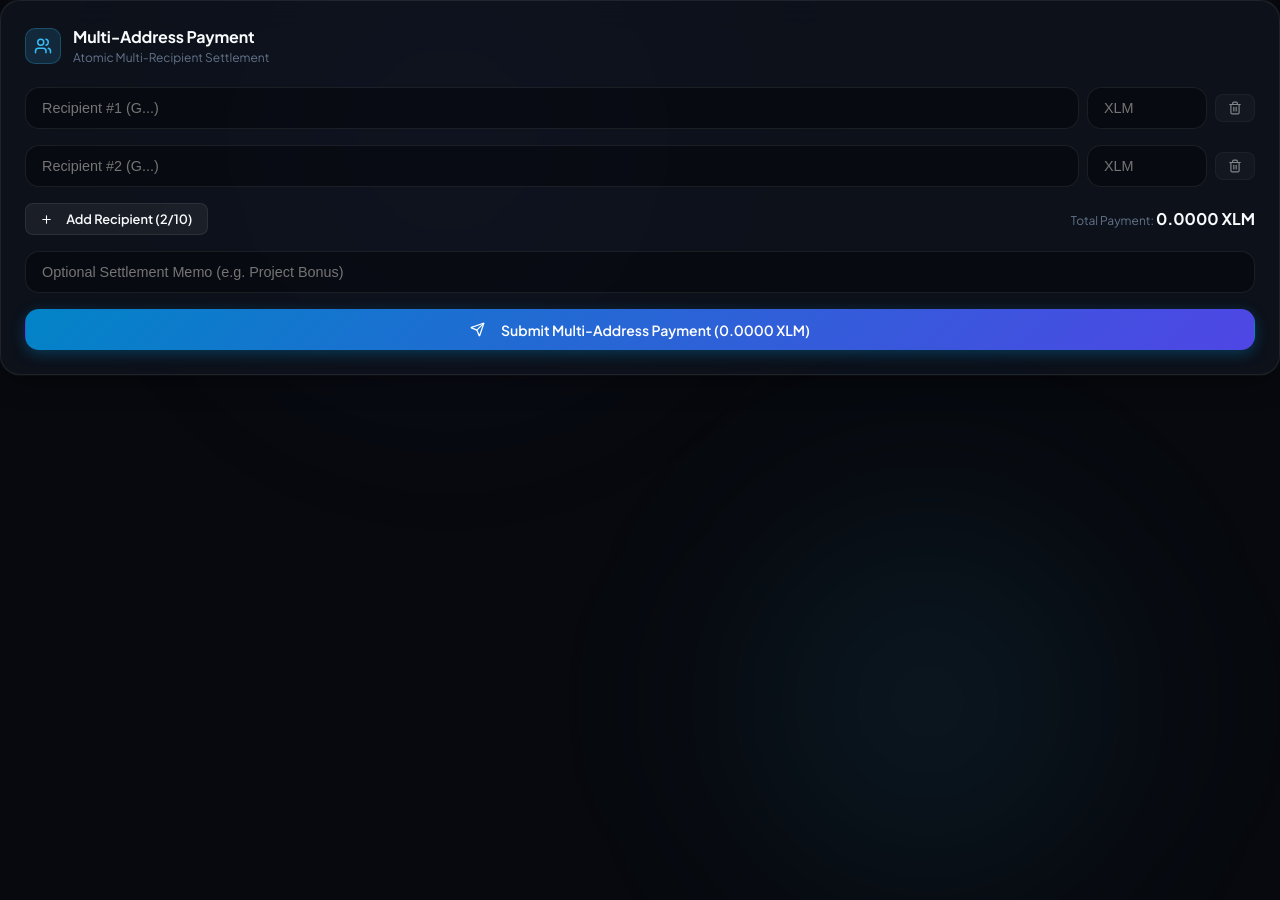
Test: Multi-Recipient & Split Payments › MultiPaymentForm Calculations and Validation › rejects duplicate recipients
Type "GBBD47IF6LWK7P7MDEVSCWR7DPUWV3NY3DTQEVFL4NAT4AQH3ZLLFLA5" into the field with test id "multi-recipient-0" at [552, 108], box top-left (25, 87), bottom-right (1079, 129)
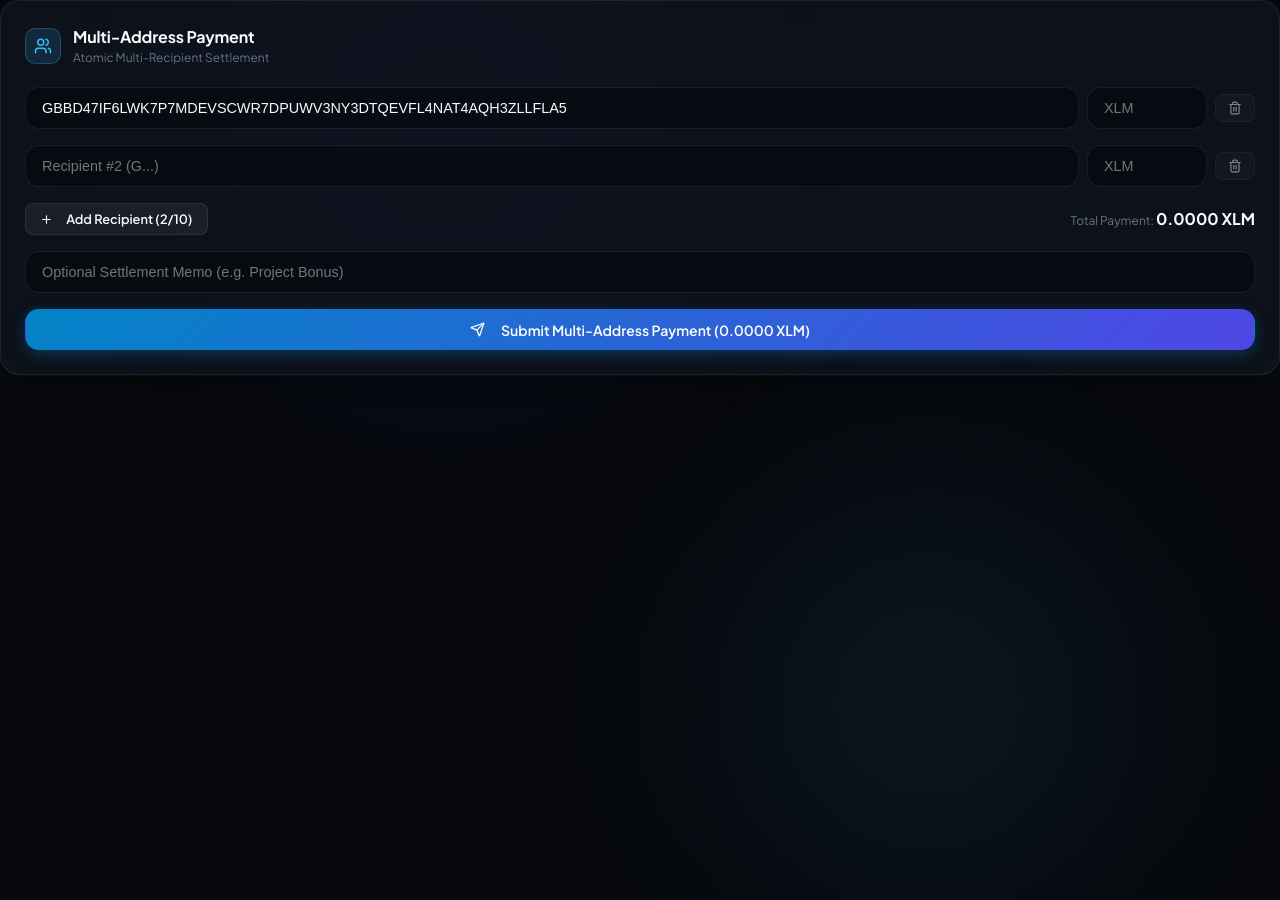
Type "10" into the number field with test id "multi-amount-0" at [1147, 108], box top-left (1087, 87), bottom-right (1207, 129)
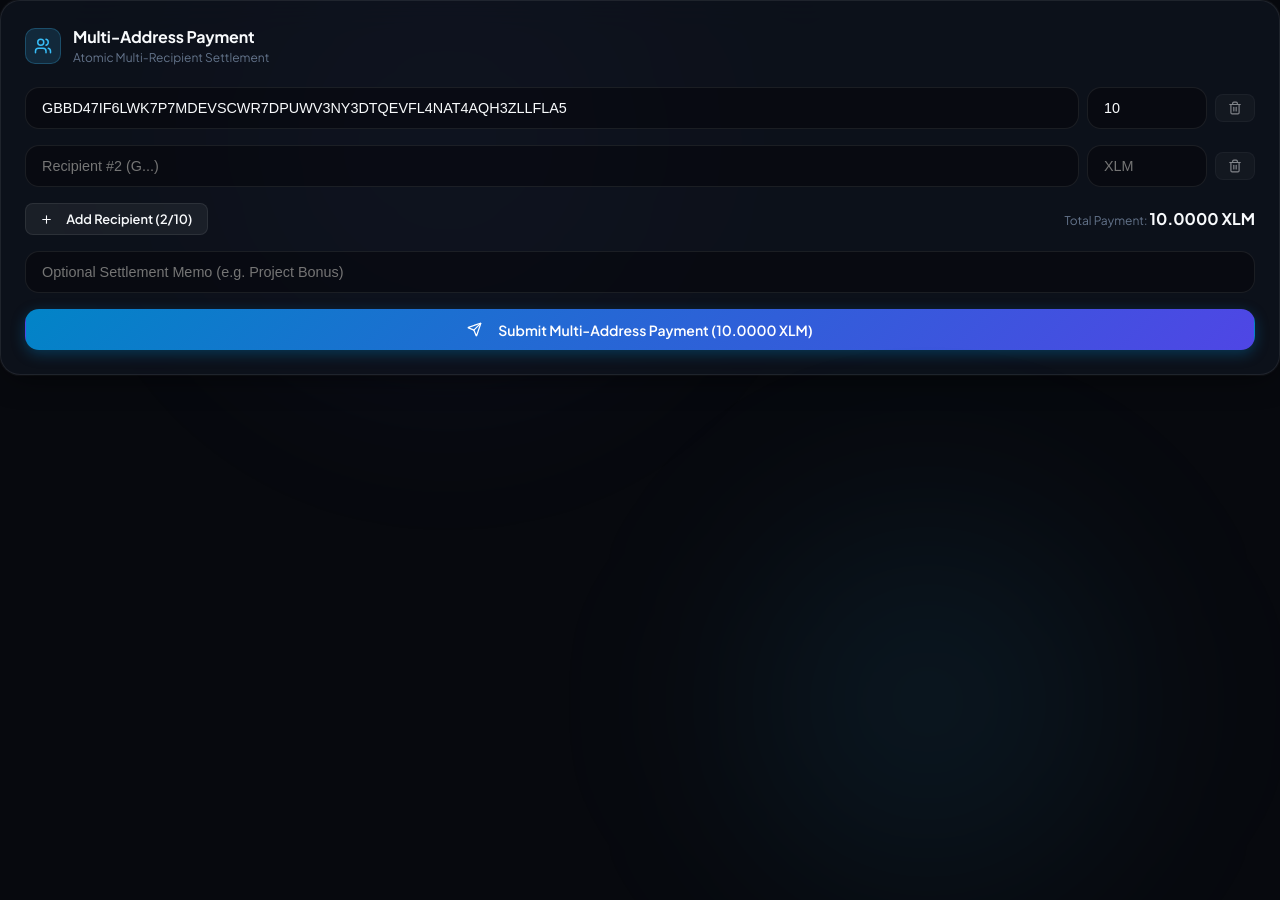
Type "GBBD47IF6LWK7P7MDEVSCWR7DPUWV3NY3DTQEVFL4NAT4AQH3ZLLFLA5" into the field with test id "multi-recipient-1" at [552, 166], box top-left (25, 145), bottom-right (1079, 187)
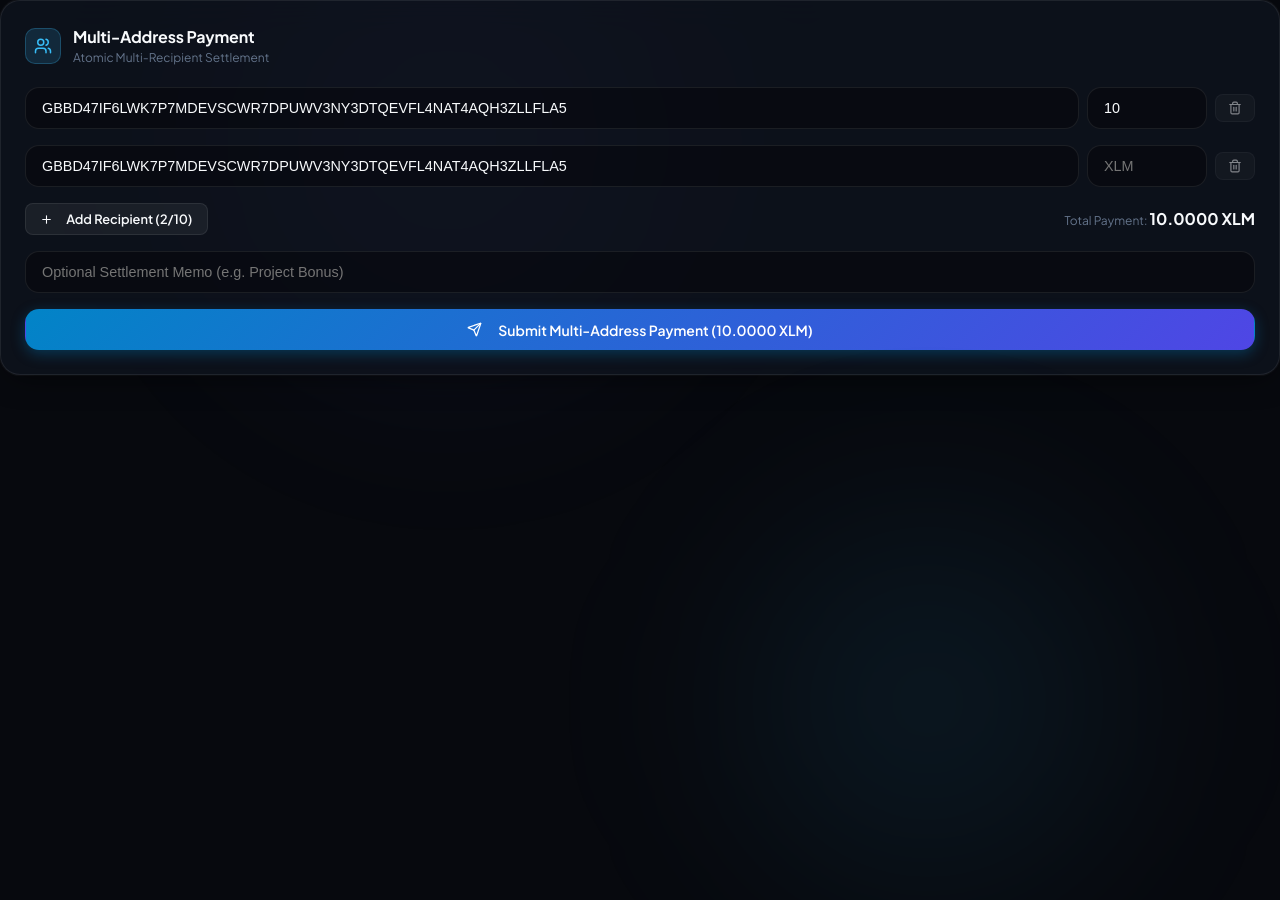
Type "20" into the number field with test id "multi-amount-1" at [1147, 166], box top-left (1087, 145), bottom-right (1207, 187)
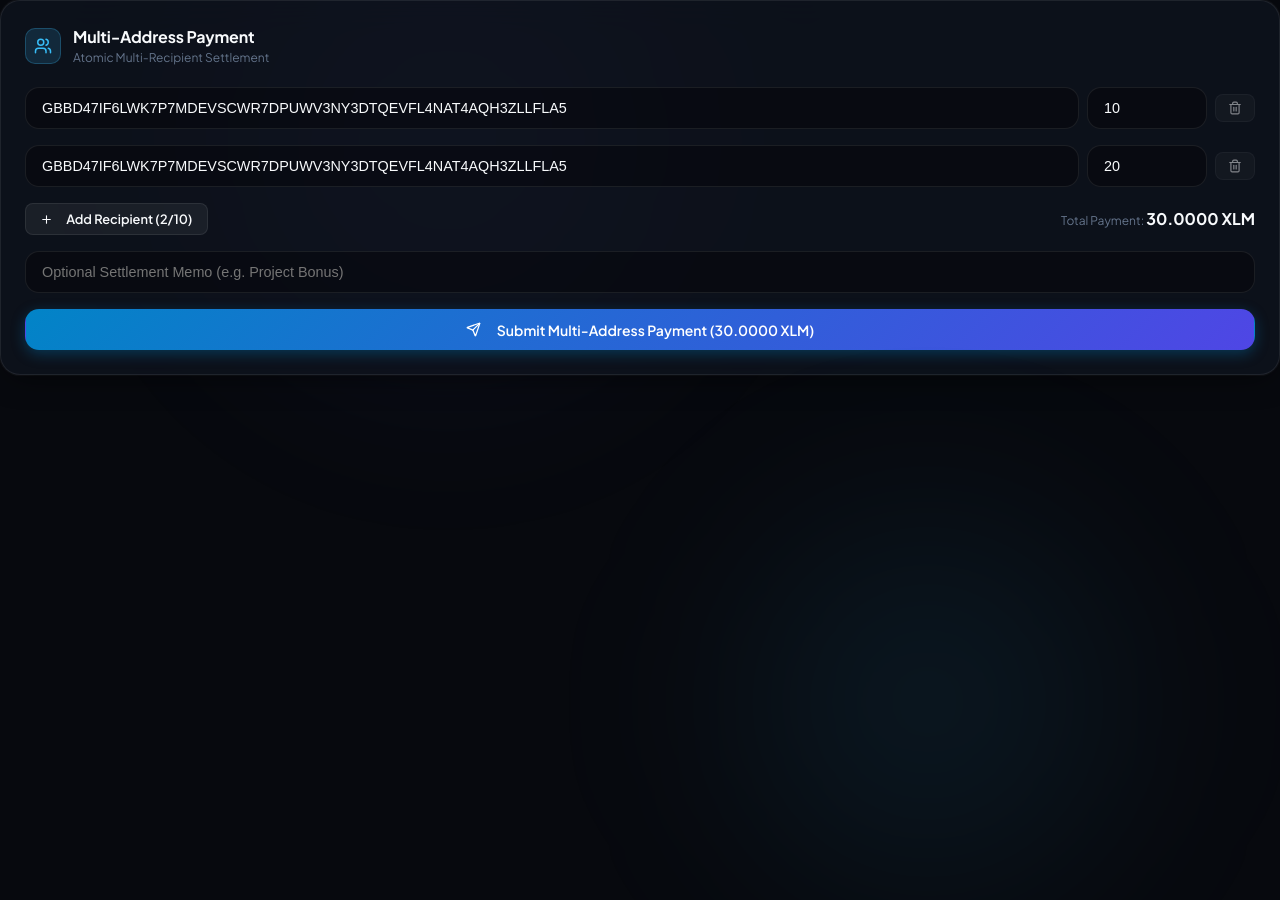
Click the button with test id "submit-multi-payment" at [640, 330], box top-left (25, 309), bottom-right (1255, 350)
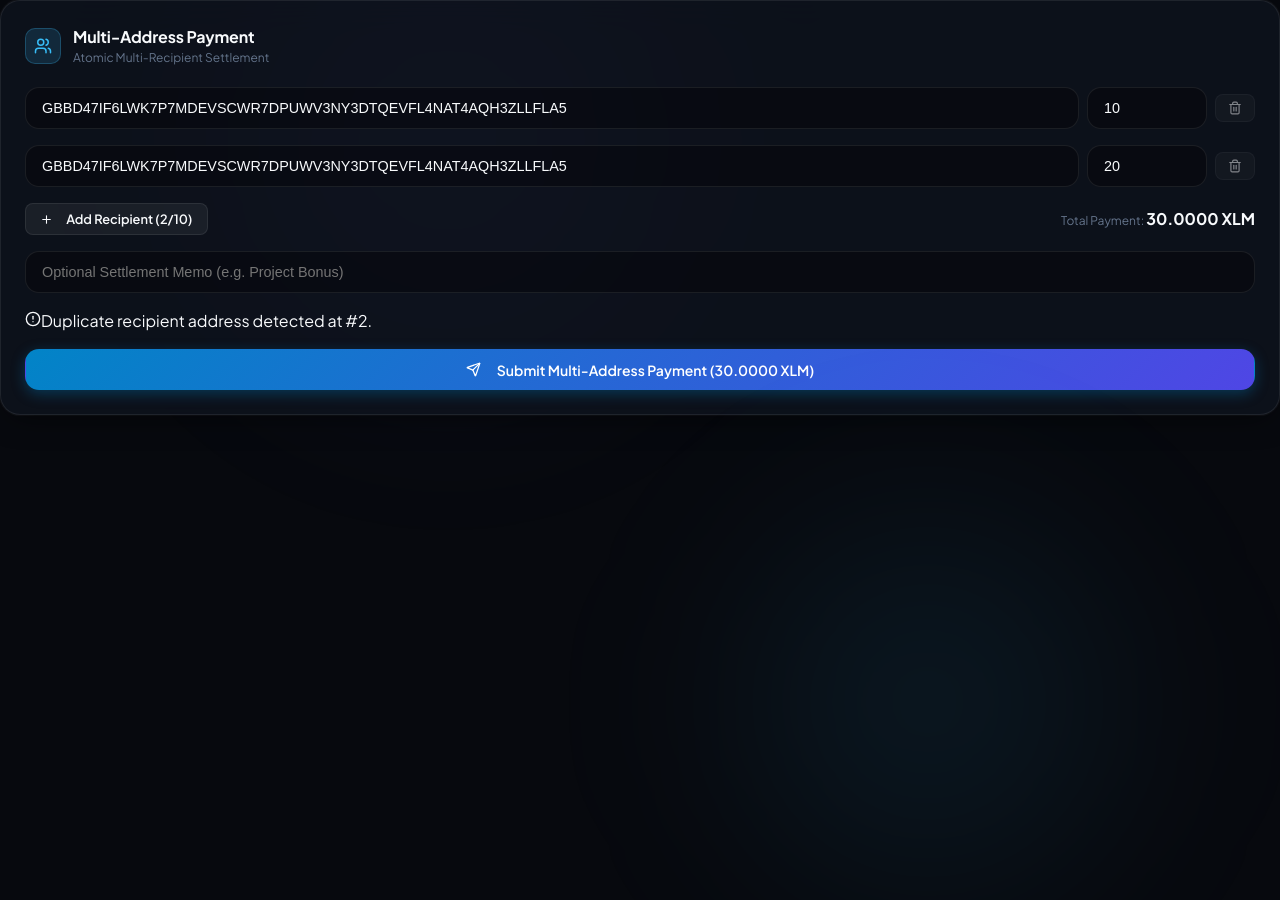
Check: the text "Duplicate recipient address detected at #2." is shown, box top-left (41, 310), bottom-right (372, 331)
